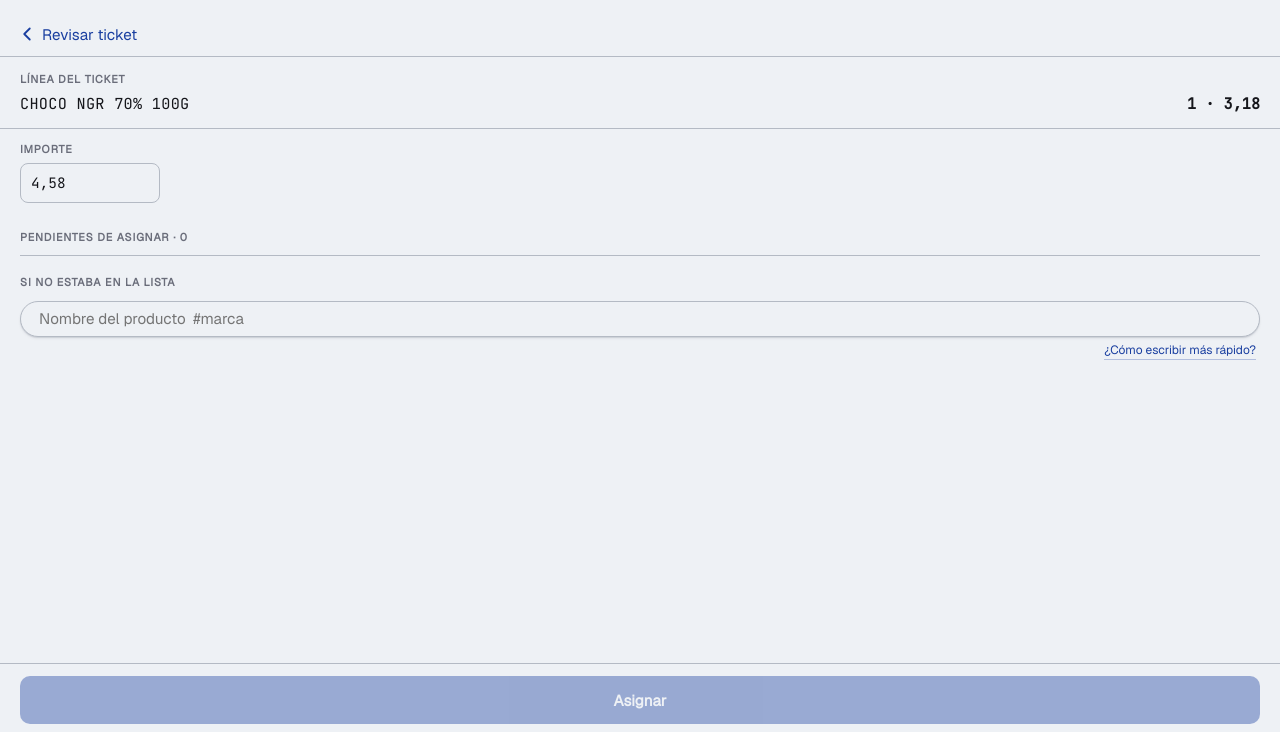
an invalid or negative amount reverts instead of committing
The width and height of the screenshot is (1280, 732).
Replace the text in the field labelled "Importe" with "-2". click: (90, 183)
box: [20,163,160,203]
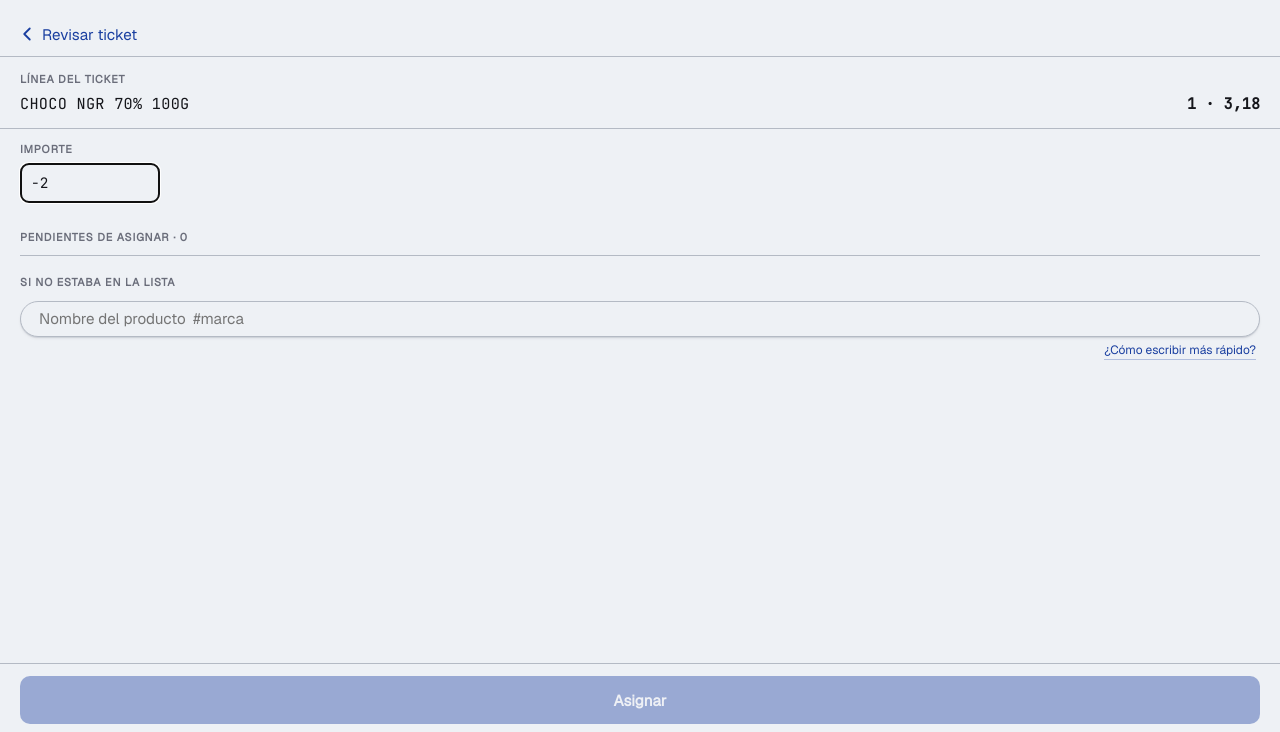
Press Tab
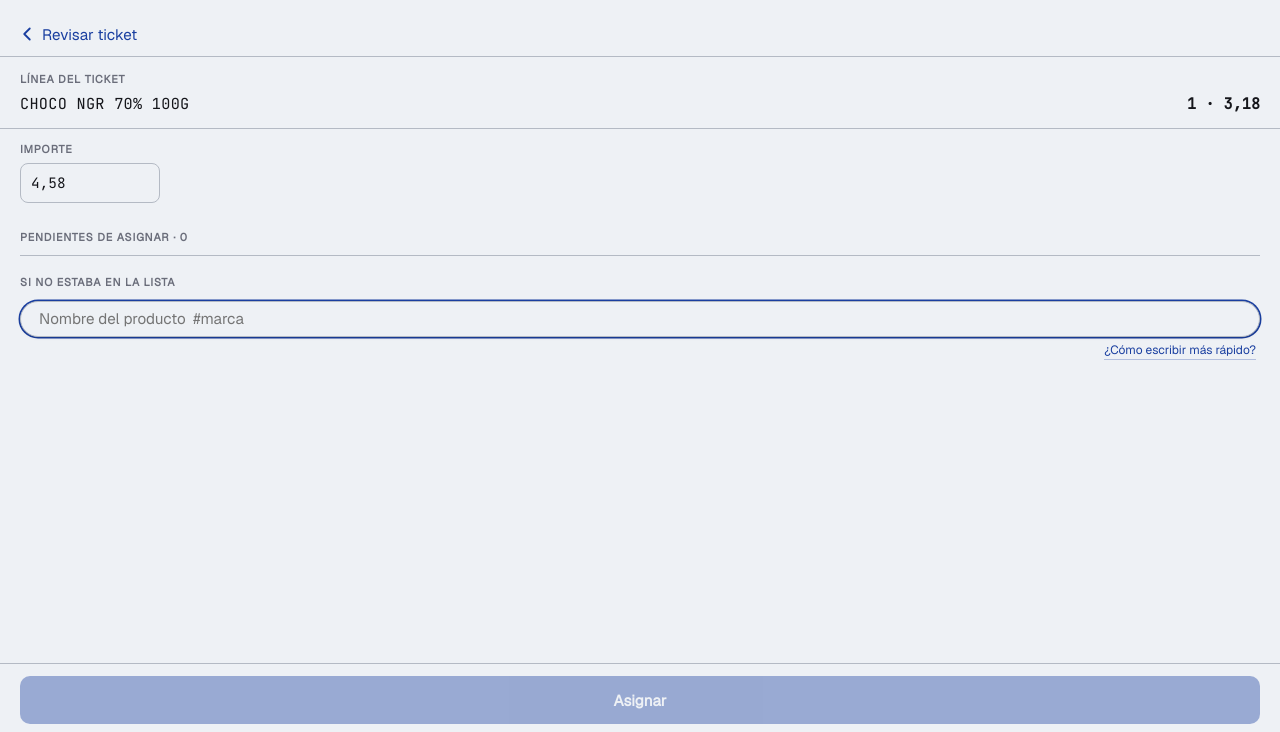
Expected: the field labelled "Importe" holds "4,58", [20,163,160,203]
